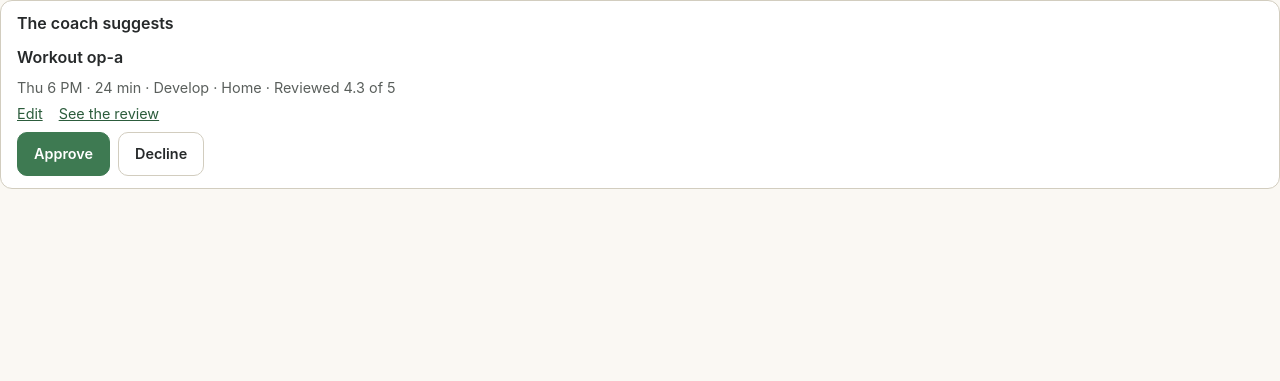
what it is for, and why each move (D1, D3) › a move with an id links to its Studio page — the move and an alternate; one without is plain text
Click the button "Workout op-a": (70, 57) [17, 41, 123, 73]
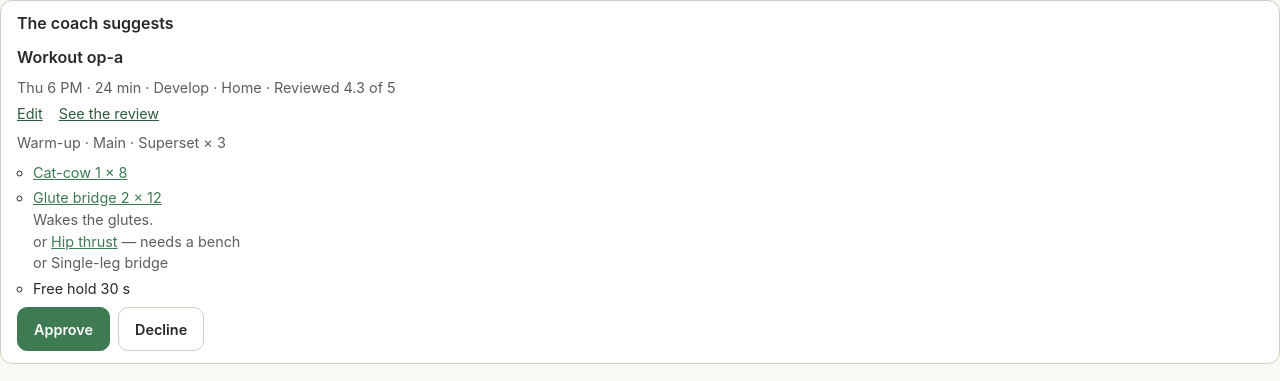
Now the list item "Free hold 30 s" is shown, box [33, 280, 130, 297]
